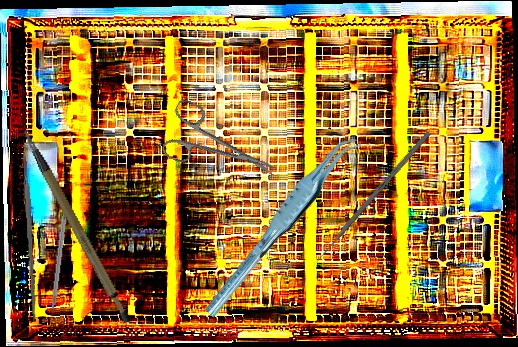Hook Surgical: (46, 199, 70, 330)
Iris Scissors: (155, 97, 288, 201)
Pusher: (311, 130, 431, 268)
Scalpel Handle: (22, 117, 135, 334), (22, 153, 38, 322)
Tissue Forceps: (185, 131, 378, 320)
